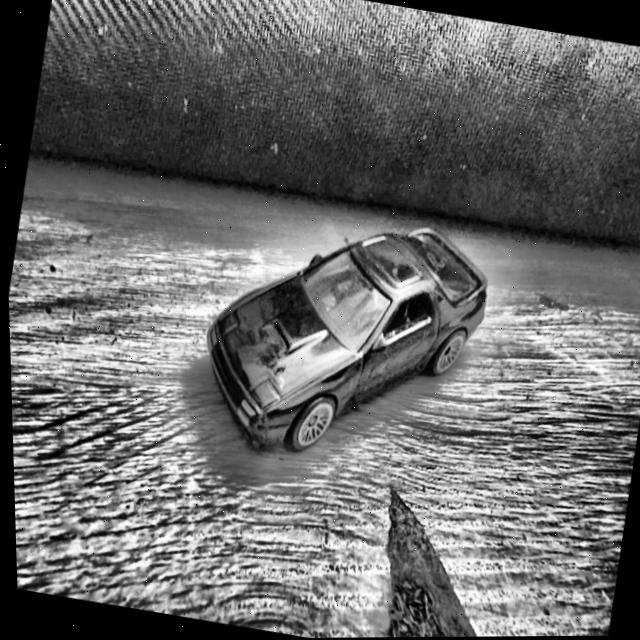car: (182, 191, 499, 485)
